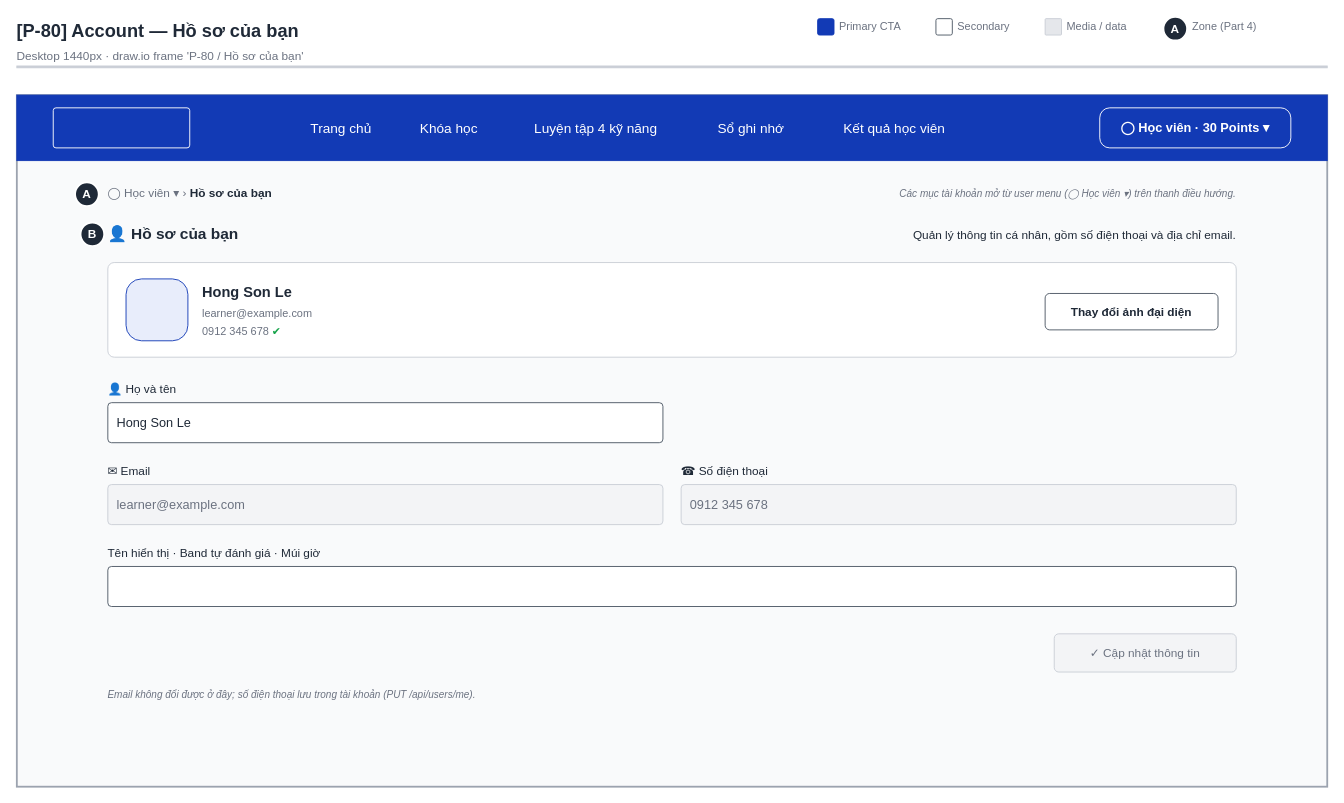
The diagram is 1344 pixels wide and 803 high, and some of its shapes have lost their labels. The centre of each missing label's shape, as x and y in pixels:
"HS" goes at (156,309).
"IELTS Space logo" goes at (121,127).
"Sone · 5.5 · Asia/Ho_Chi_Minh" goes at (671,586).
